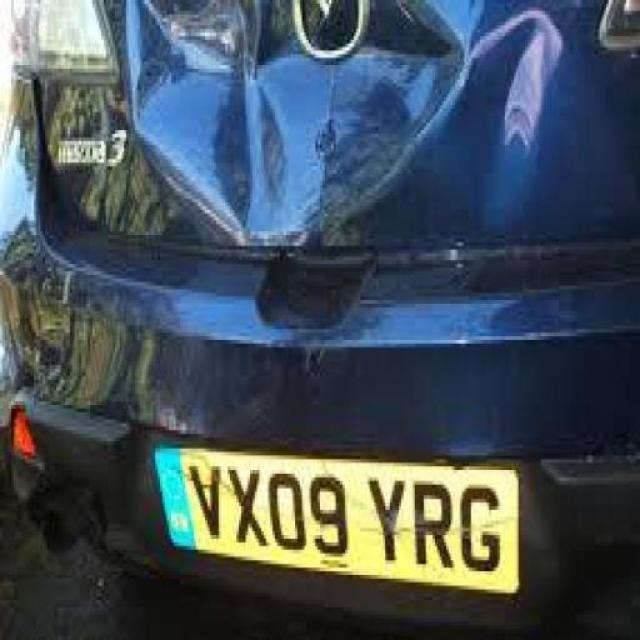dent: (122, 0, 578, 247)
